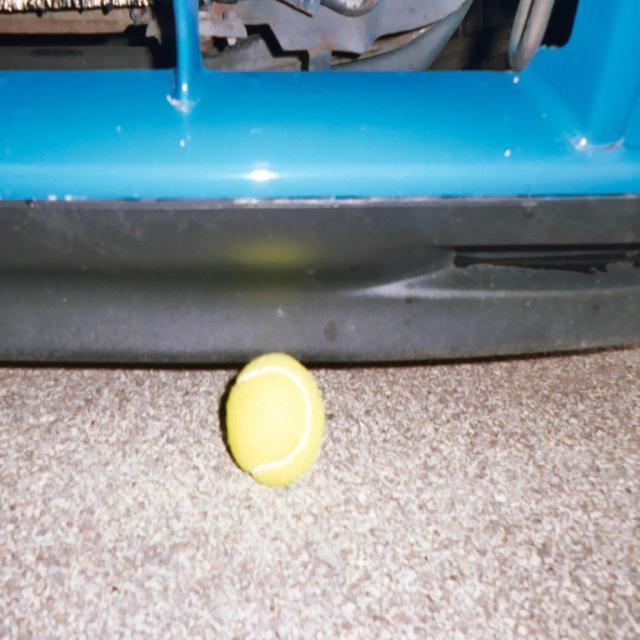Tennis Ball: (219, 353, 326, 489)
